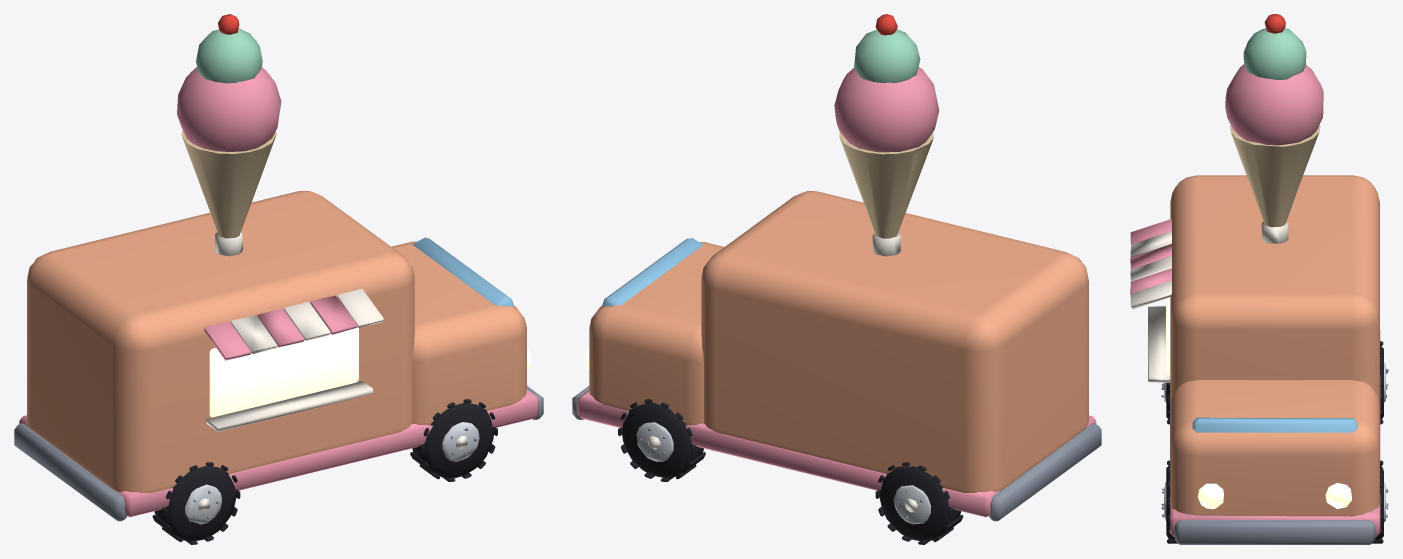
The model's file is icecream_van.glb.
The picture shows the model from 3 angles, left to right: view 1: azimuth 30°, elevation 25°; view 2: azimuth 150°, elevation 25°; view 3: azimuth 270°, elevation 25°; orthographic projection. The views are drawn at different scales.
Parts seen in each view (by area): view 1: icecream_van; view 2: icecream_van; view 3: icecream_van.
Boxes of the visible parts, x1=… form: icecream_van: x1=14, y1=14, x2=543, y2=544; icecream_van: x1=572, y1=14, x2=1101, y2=544; icecream_van: x1=1130, y1=14, x2=1388, y2=544.
Bounding box in the file's own units: 5.17 × 5.36 × 2.83.
Materials: 1 (1 with a texture image).
